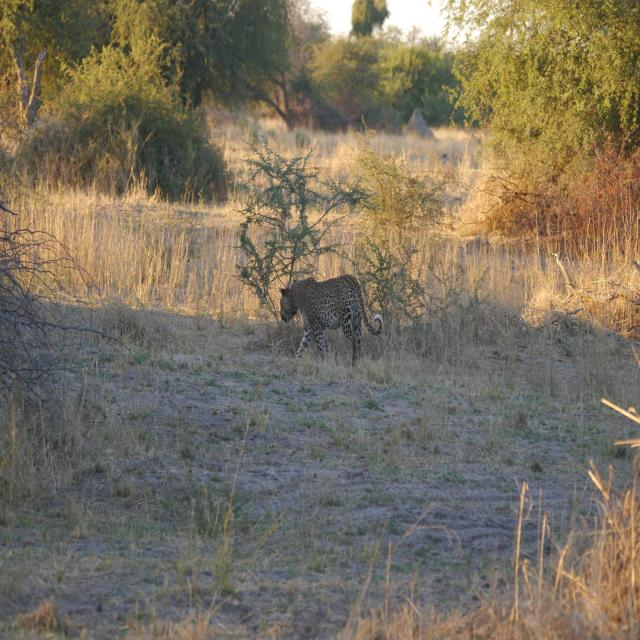Leopard: (278, 271, 379, 374)
